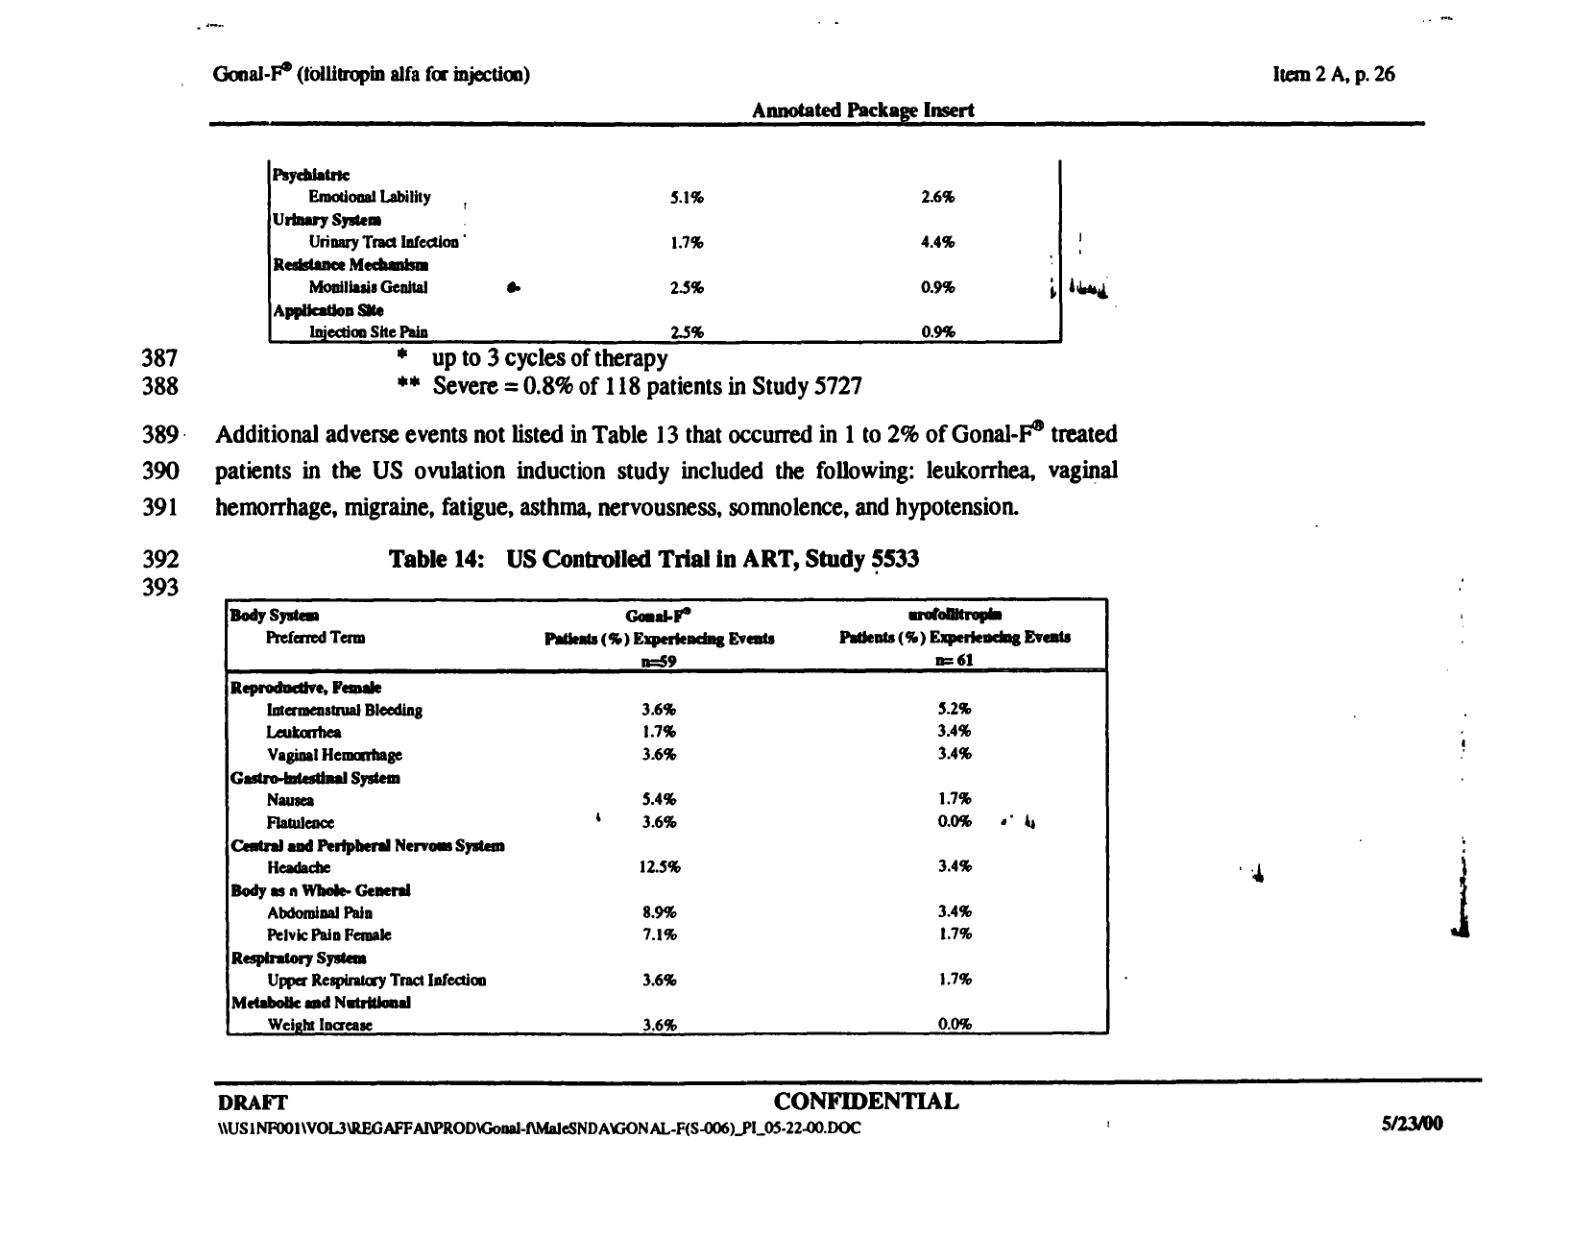nolines: (267, 158, 1064, 346)
partial_lined: (223, 595, 1111, 1038)
